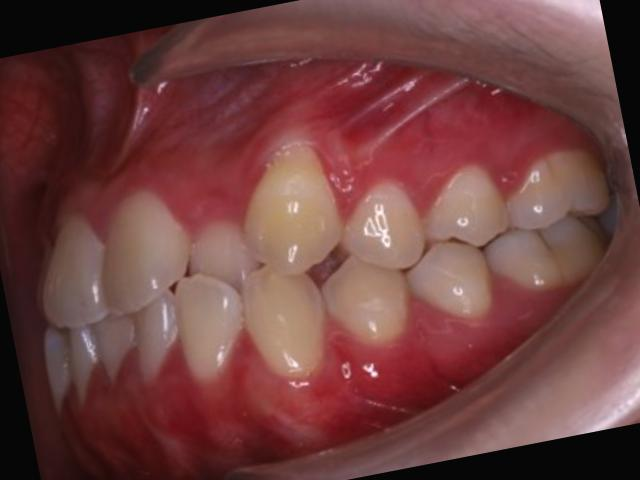canine class II 1/4: (212, 112, 424, 399)
molar class II 1/4: (469, 140, 633, 305)
